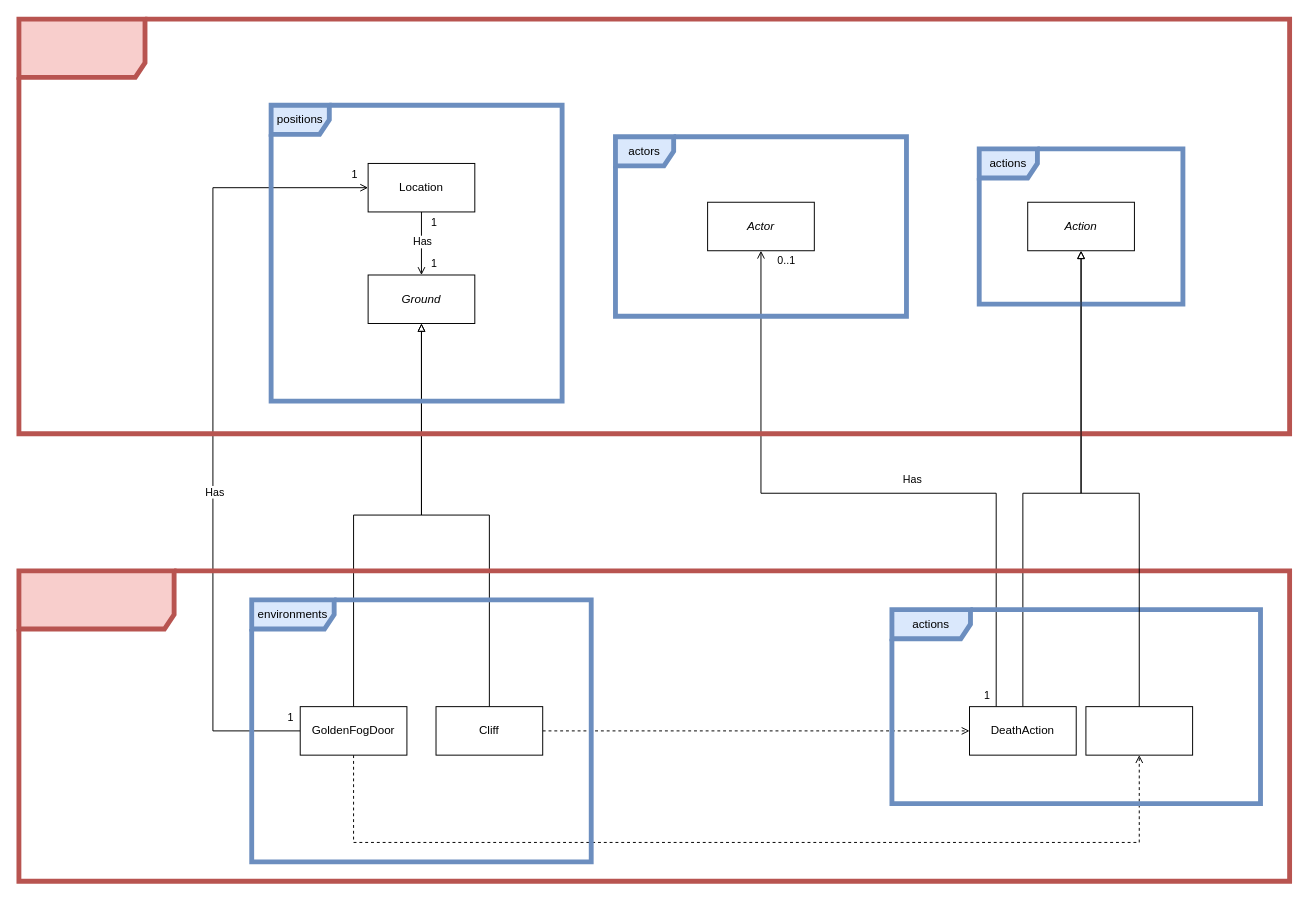
The diagram is 1309 pixels wide and 900 high, and some of its shapes have lost their labels. The box of each missing label's shape, as (x1, y1, x2, y2) in pixels:
Engine: (16, 16, 1292, 436)
game: (16, 568, 1292, 883)
Travel Action: (1085, 706, 1193, 755)
